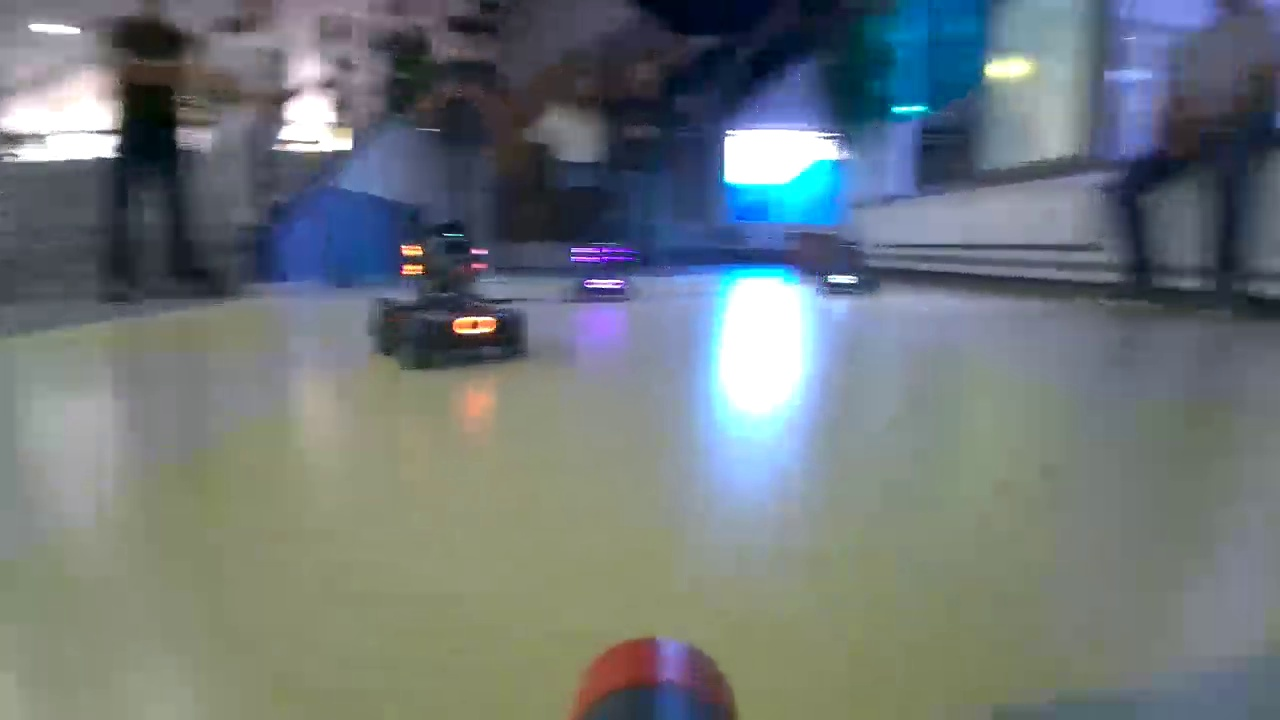robot: (374, 223, 528, 368), (570, 246, 644, 306), (812, 242, 882, 298)
